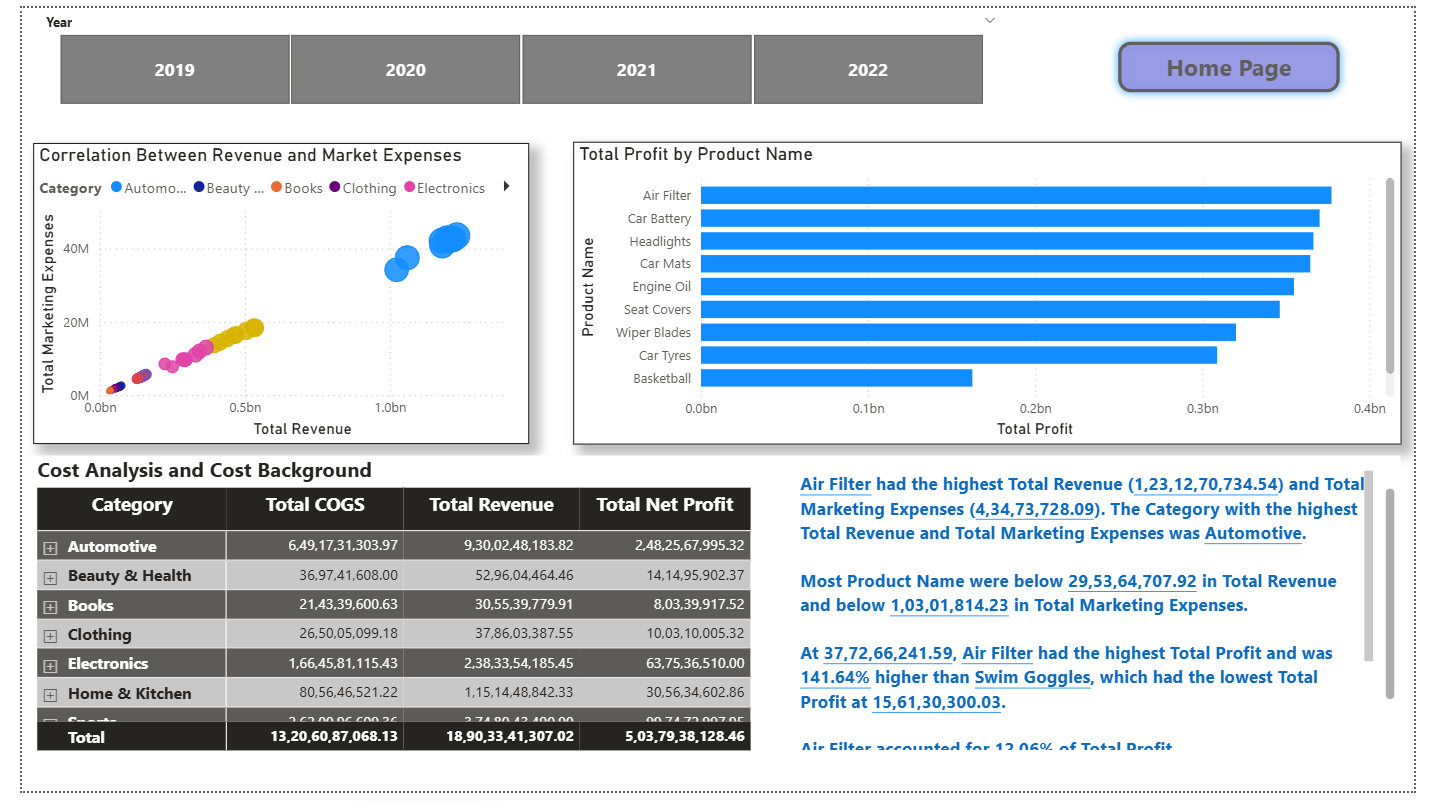

The page's visual inventory and layout, read from the dashboard file:
{"tool":"powerbi","page":{"name":"Product Analysis","canvas":[1280,720],"ordinal":2},"visuals":[{"type":"textbox","box":[10.5,0,455.8,86],"z":0},{"type":"scatterChart","title":"Correlation Between Revenue and Market Expenses ","fields":{"X":["Sales Report.Total Revenue"],"Y":["Sum(Sales Report.Marketing Expenses)"],"Category":["Products.Product Name"],"Series":["Products.Category"],"Size":["Sum(Sales Report.Profit)"]},"box":[10.5,124.4,455.8,276.7],"z":1000},{"type":"clusteredBarChart","fields":{"Category":["Products.Product Name"],"Y":["Sum(Sales Report.Profit)"]},"box":[506.3,123.5,761.6,278.6],"z":2000},{"type":"pivotTable","title":"Cost Analysis and Cost Background","fields":{"Rows":["Products.Category","Products.Product Name"],"Values":["Sales Report.Total COGS","Sales Report.Total Revenue","Sales Report.Total Net Profit"]},"box":[9.6,411.7,1258.3,275.8],"z":3000},{"type":"slicer","fields":{"Values":["Dates.Year"]},"box":[8.9,0,898.2,94.6],"z":4000},{"type":"actionButton","box":[1000,23.2,219.6,62.5],"z":5000},{"type":"textbox","box":[710.3,420.5,537.2,266.7],"z":6000}]}

Visuals, with their boxes in screenshot pixels (x1, y1, x2, y2), scaled from the page's 1280x720 canvas onto the 1446x803 screenshot:
textbox: box=[12, 0, 527, 96]
"Correlation Between Revenue and Market Expenses " scatterChart: box=[12, 139, 527, 447]
clusteredBarChart - Products.Product Name x Sum(Sales Report.Profit): box=[572, 138, 1432, 448]
"Cost Analysis and Cost Background" pivotTable: box=[11, 459, 1432, 767]
slicer - Dates.Year: box=[10, 0, 1025, 106]
actionButton: box=[1130, 26, 1378, 96]
textbox: box=[802, 469, 1409, 766]
